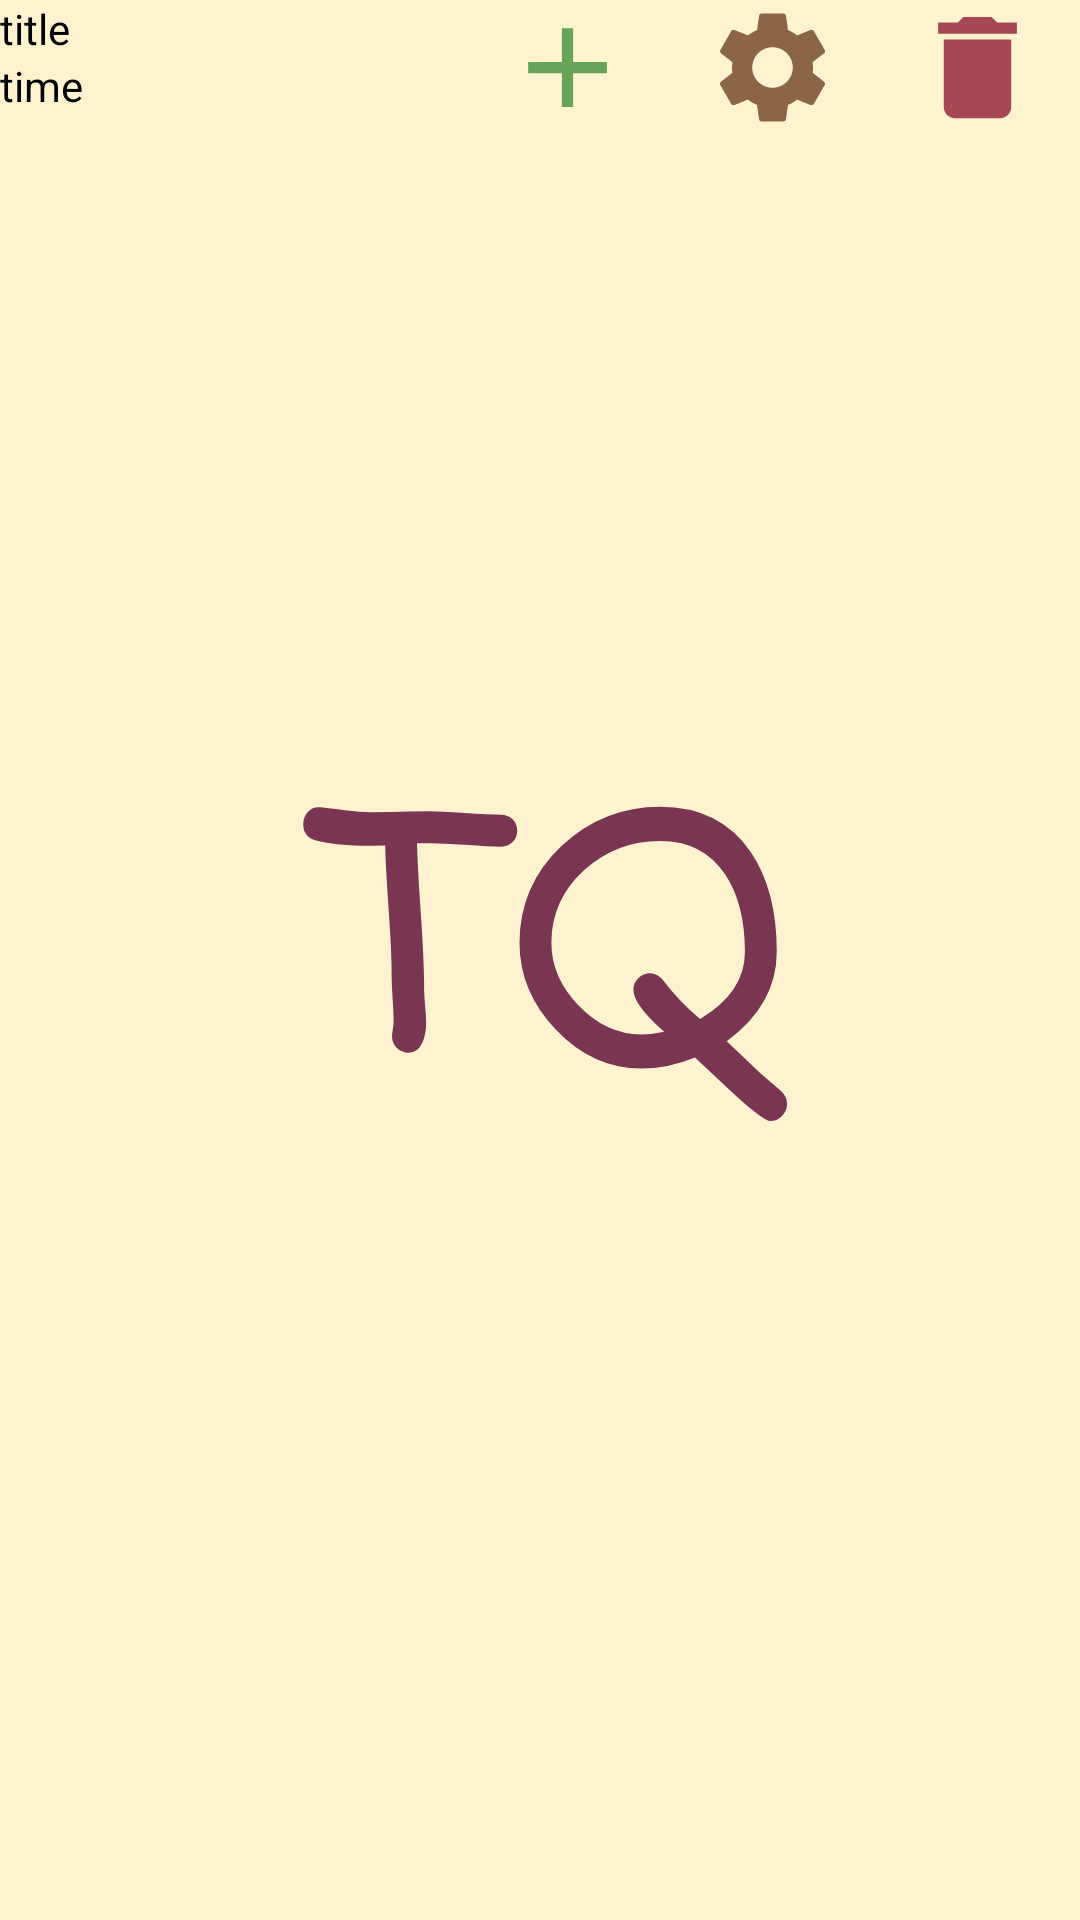

Named icons in this screenshot (1080×1920) and their bounding boxes, (x1,y1,x2,y2):
delete: (938,17,1017,119)
settings: (720,13,825,122)
